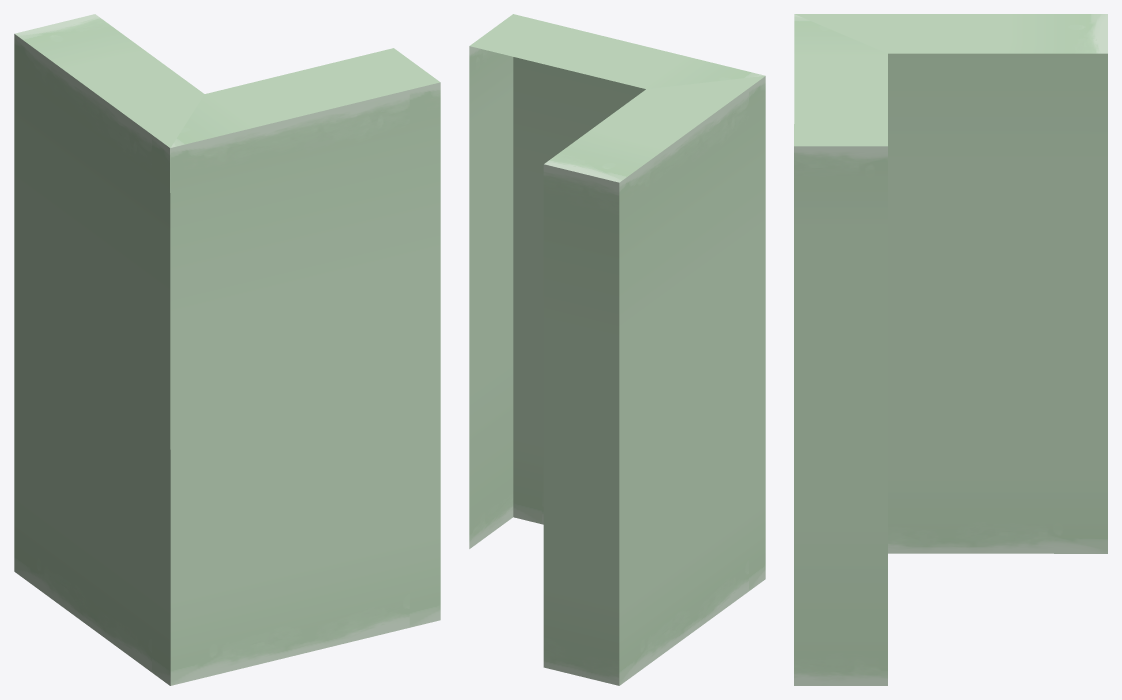
Rendered from mur_angle.fbx.
3 views of the same model, side by side, from view 1: azimuth 30°, elevation 25°; view 2: azimuth 150°, elevation 25°; view 3: azimuth 270°, elevation 25° (orthographic). The views are drawn at different scales.
Visible parts, largest first — view 1: mur_angle; view 2: mur_angle; view 3: mur_angle.
Boxes of the visible parts, x1,y1,x2,y2 form: mur_angle: (14,14,440,685); mur_angle: (469,14,765,685); mur_angle: (794,14,1107,685).
Bounding box in the file's own units: 0.9988 × 1.9 × 1.
